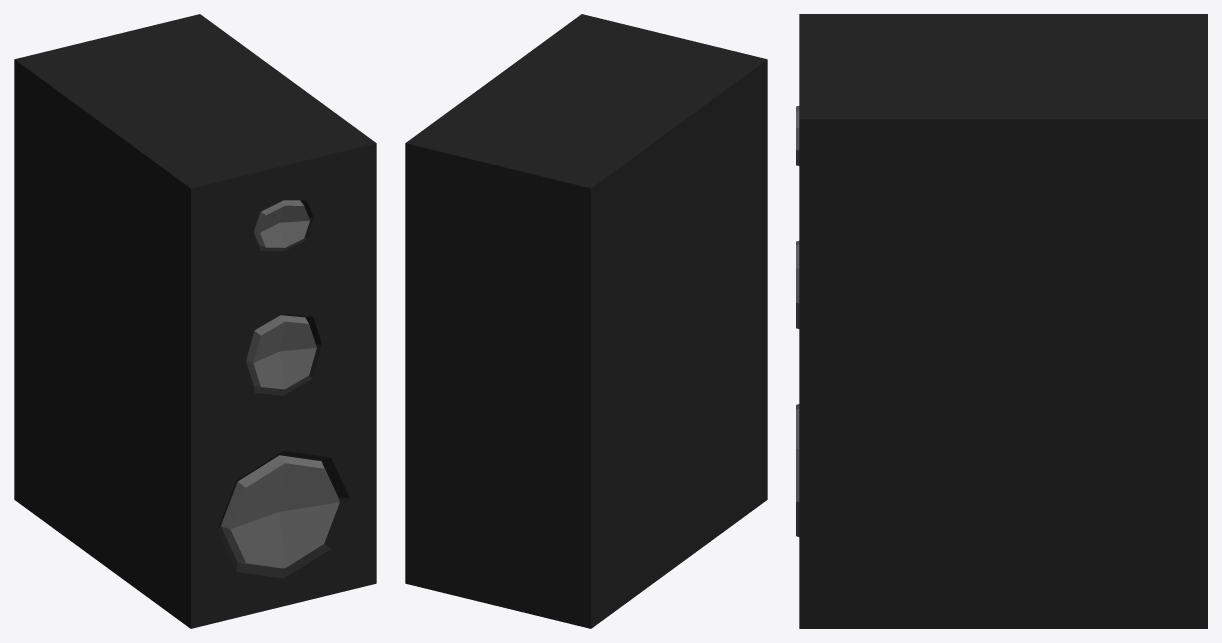
File: speaker.gltf
3 views of the same model, side by side, from view 1: azimuth 30°, elevation 25°; view 2: azimuth 150°, elevation 25°; view 3: azimuth 270°, elevation 25° (orthographic). The views are drawn at different scales.
Parts seen in each view (by area): view 1: Cube; view 2: Cube; view 3: Cube.
Part boxes in pixels (x1,y1,x2,y2): Cube: (14,14,376,628); Cube: (405,14,767,628); Cube: (796,14,1207,628).
Bounding box in the file's own units: 0.1557 × 0.3529 × 0.2583.
Materials: 1 (1 with a texture image).
